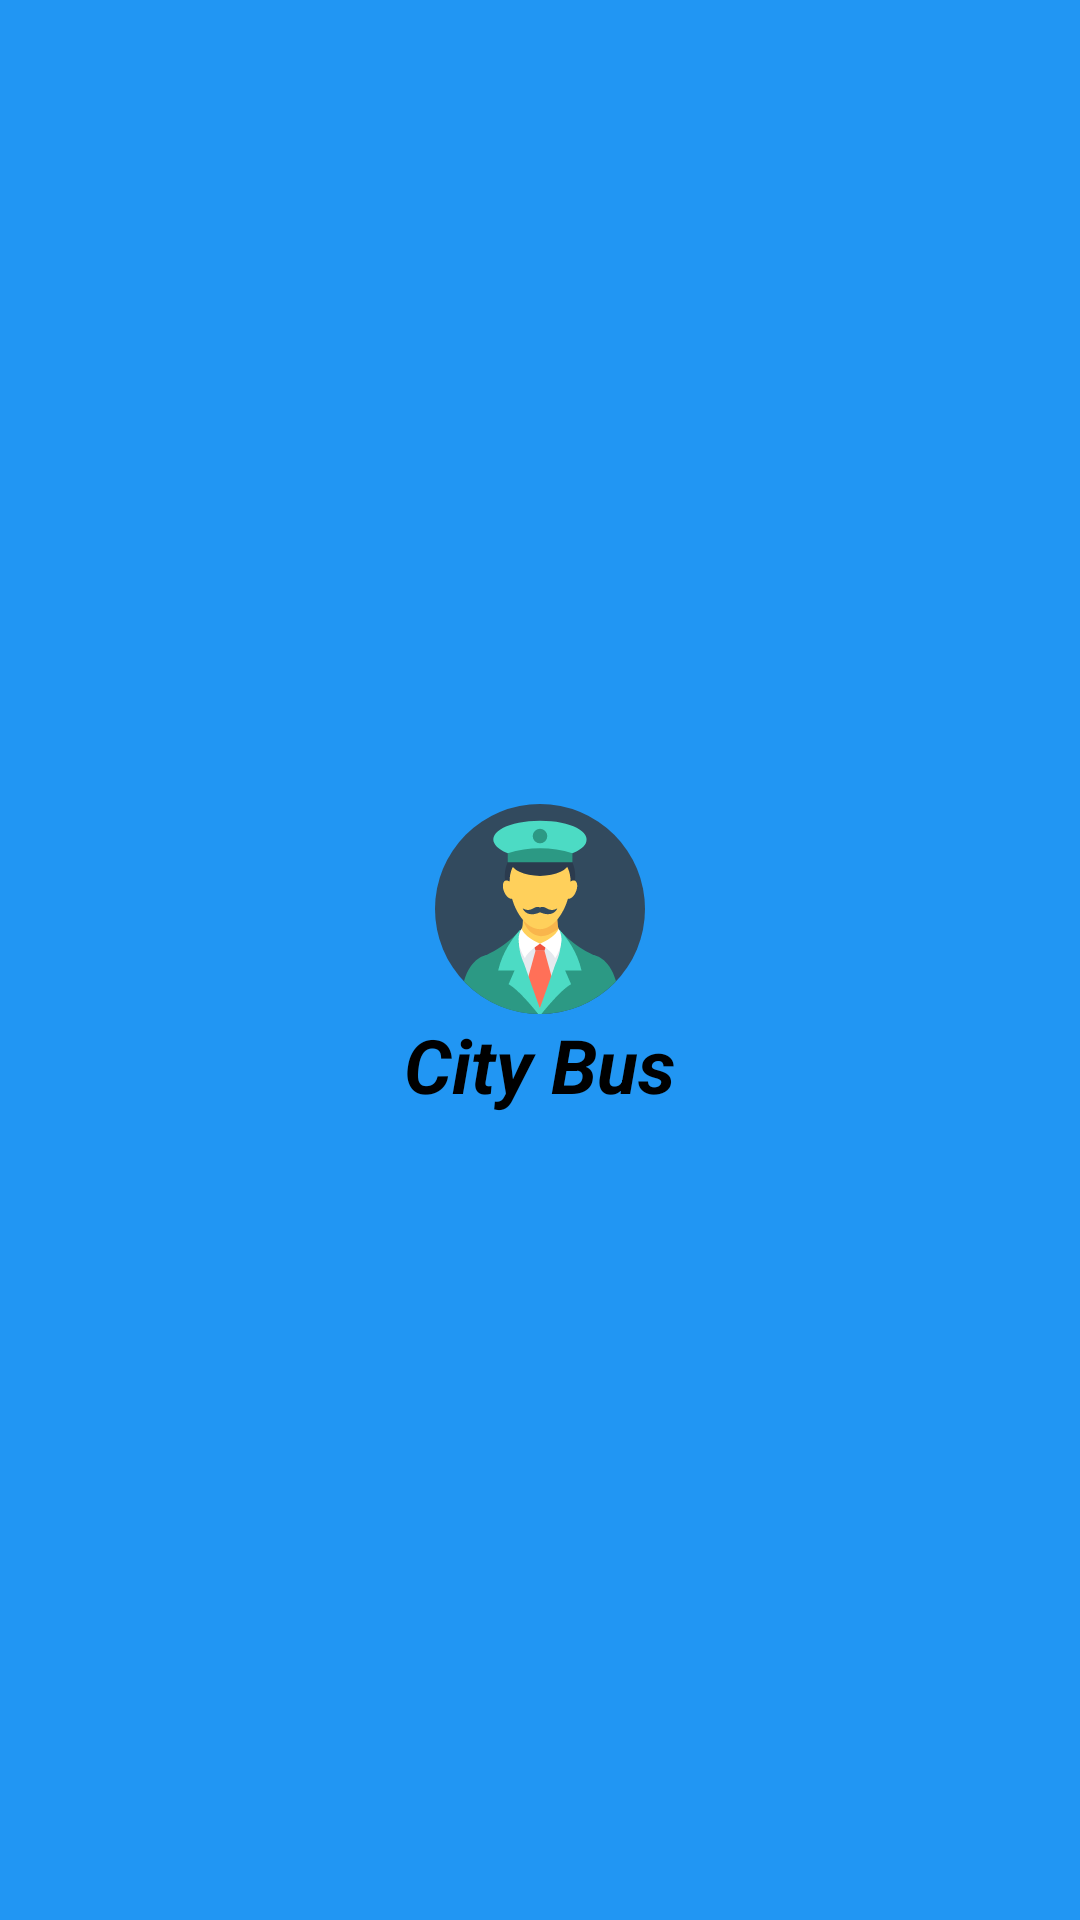

Screen size 1080 × 1920. Icon name, then its center in pixels as [x,y]:
driver: [540,909]
